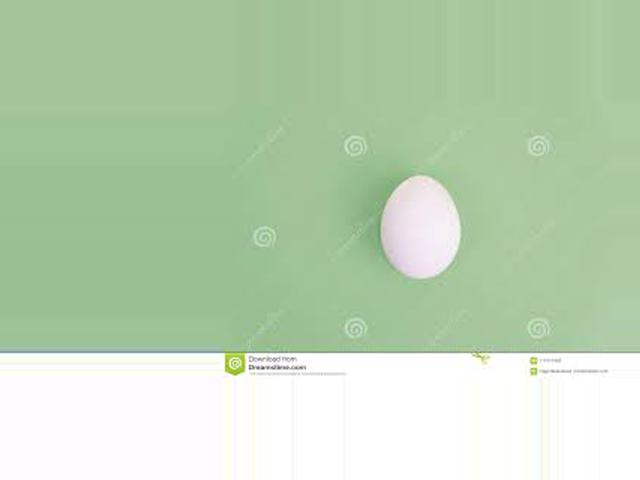egg: (380, 176, 459, 278)
